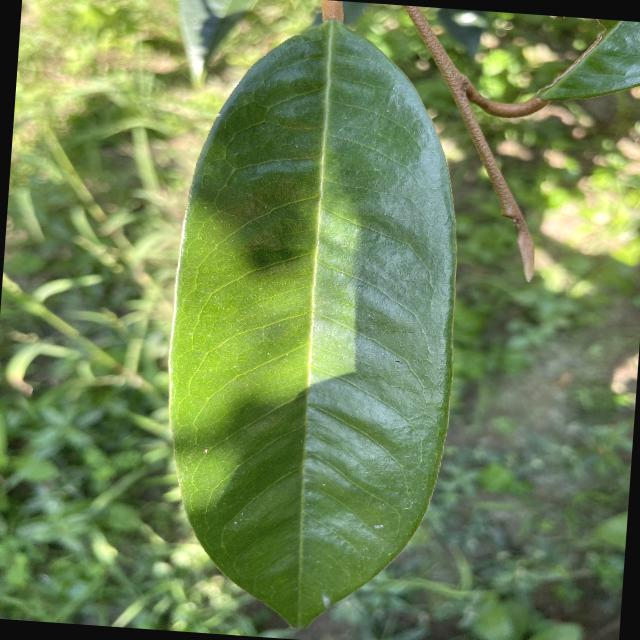No Disease: (140, 3, 485, 639)
